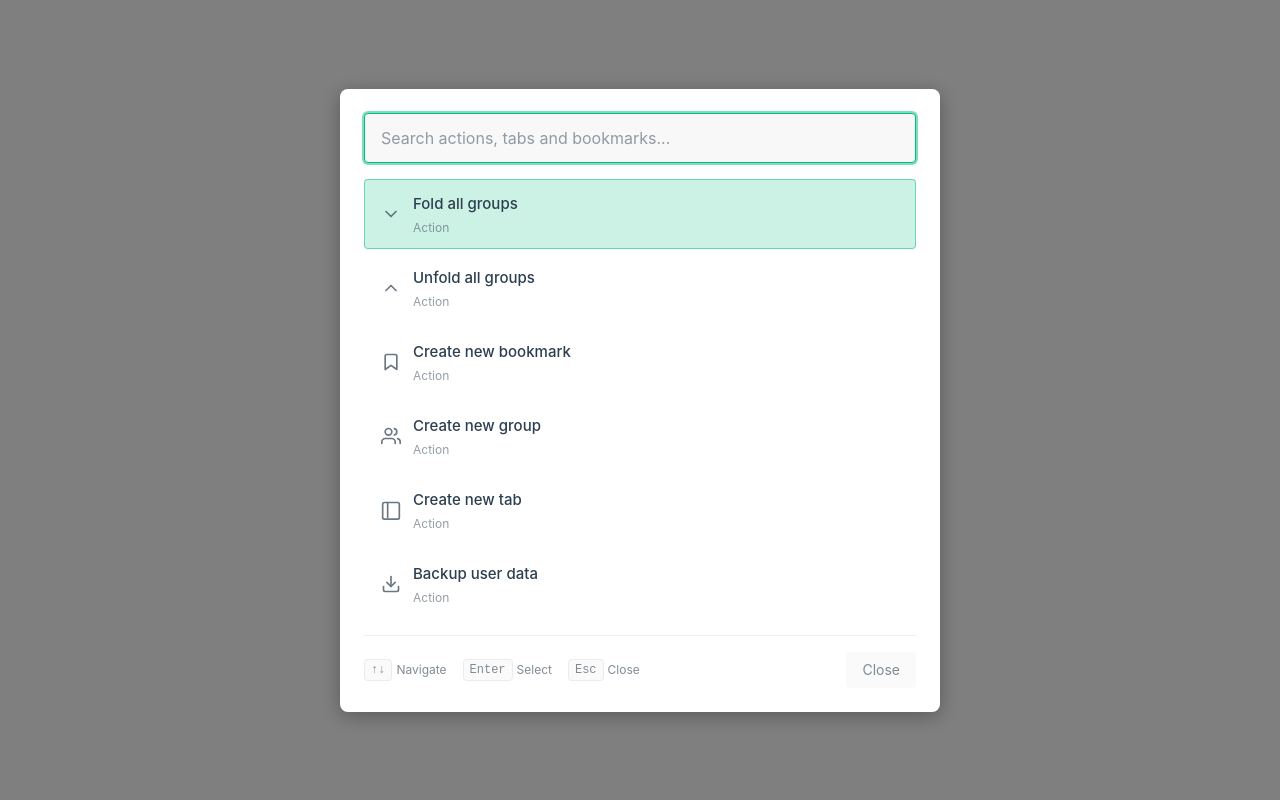
Test case: CommandPalette › searches for tabs
This screenshot has width=1280, height=800.
# Use a more specific query that won't match actions
Type "Test Tab" into the field with placeholder "Search actions, tabs and bookmarks..." at (640, 138), box [364,112,916,162]
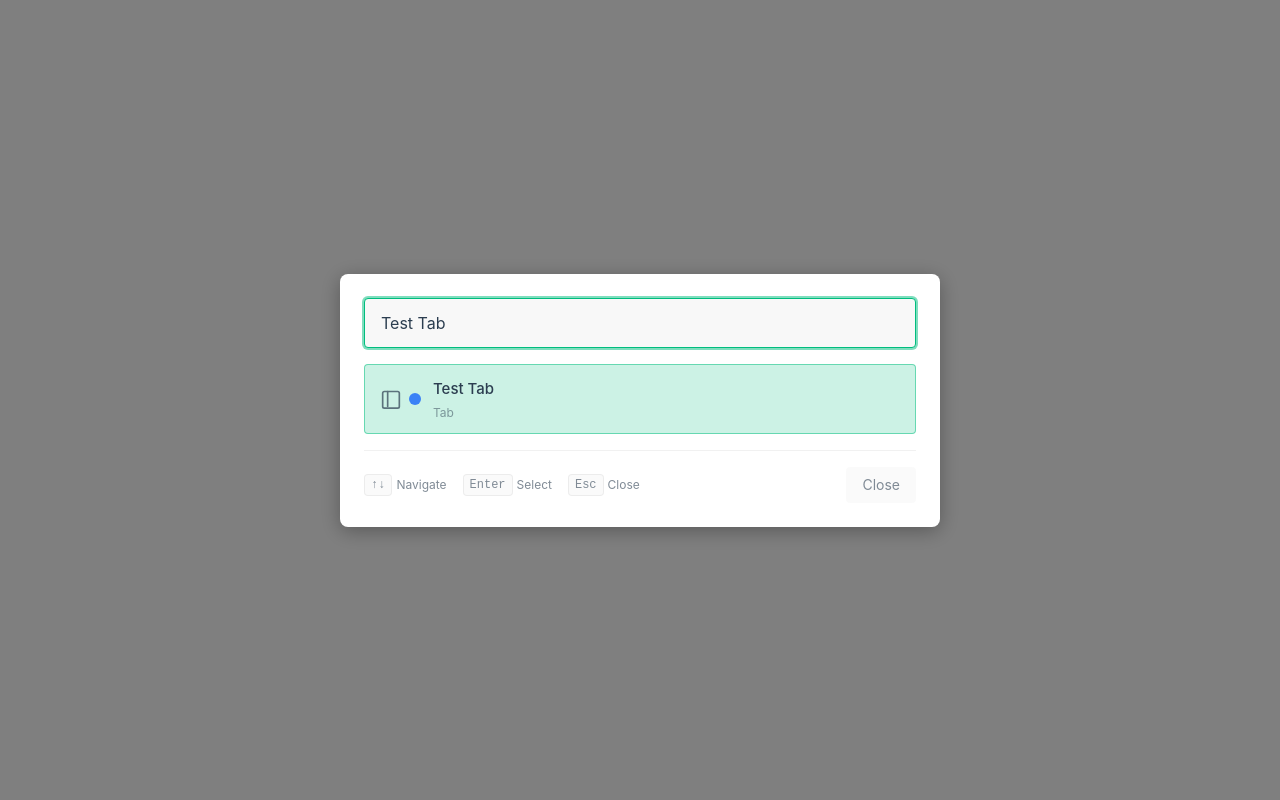
Result: the list item "Test Tab Tab" is shown at [364,364,916,434]
